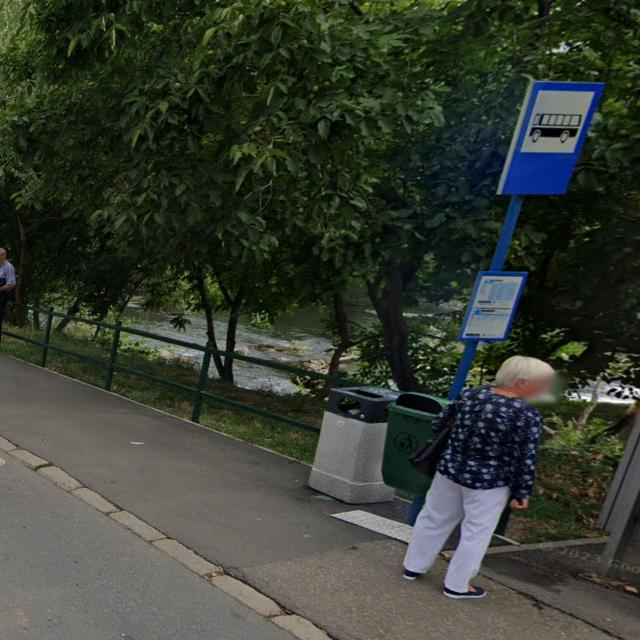info_bus_station: (496, 80, 606, 196)
